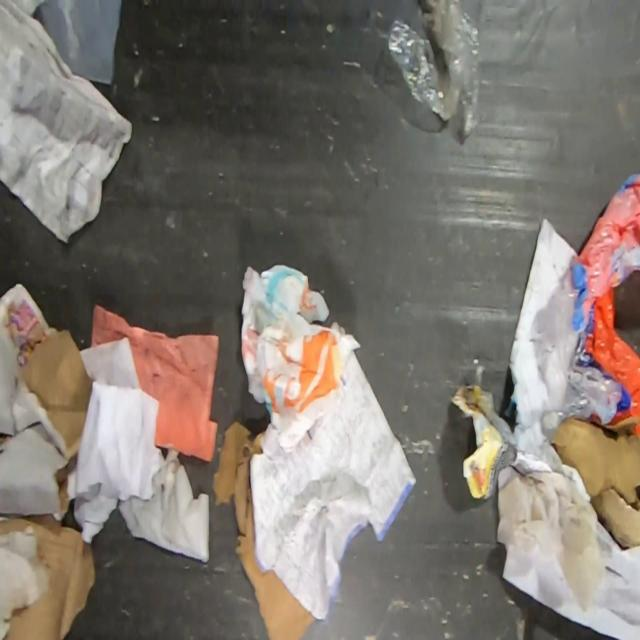cardboard: (210, 420, 314, 639), (0, 330, 92, 516), (549, 415, 640, 551), (0, 512, 95, 640)
soft_plastic: (559, 174, 640, 424), (384, 0, 487, 136), (31, 0, 123, 84)
